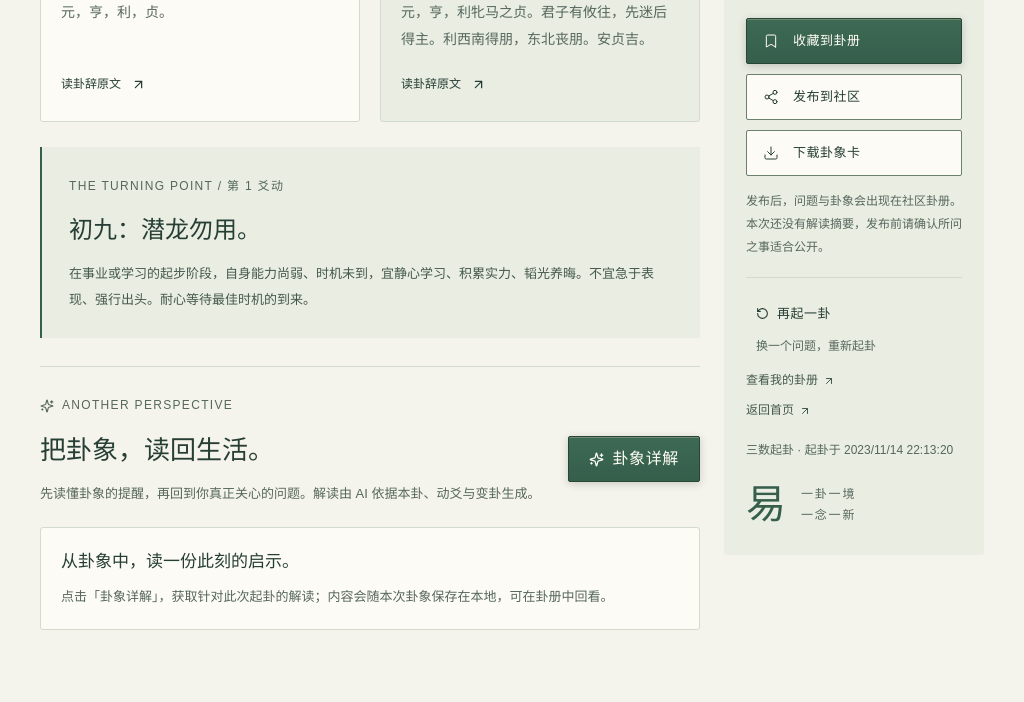
Test: ResultDisplay › works with no question (the AI prompt has a fallback branch)
The width and height of the screenshot is (1024, 702).
(page scrolled)
Click the button "卦象详解": click(634, 459) [568, 436, 700, 482]
(page scrolled)
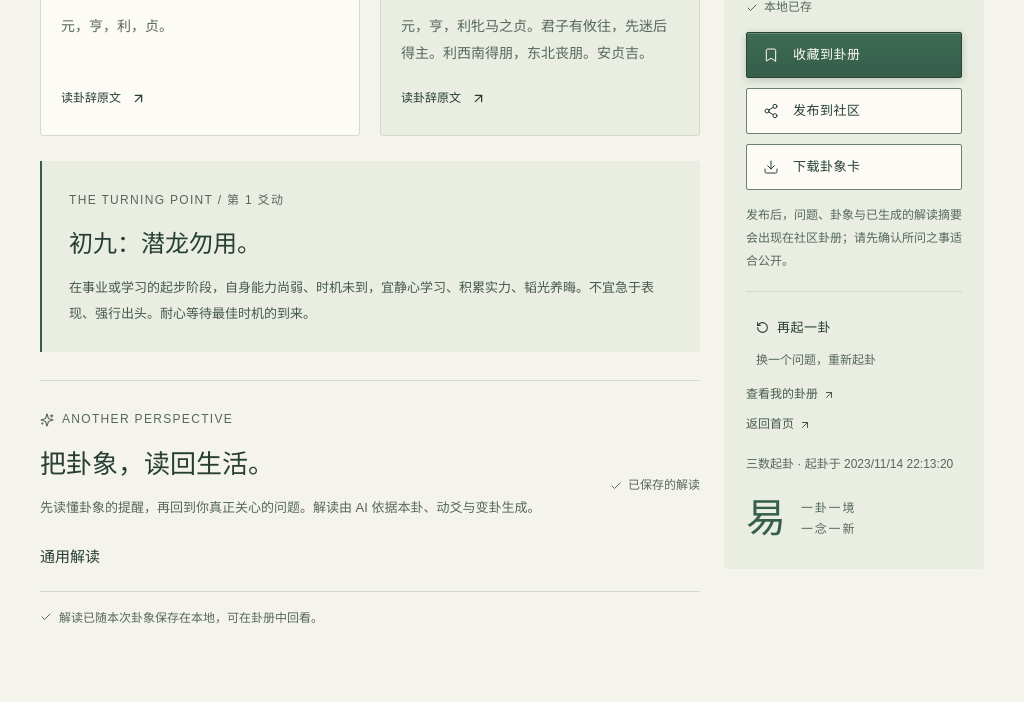
Result: the text "通用解读" is shown at [40, 549, 100, 565]
